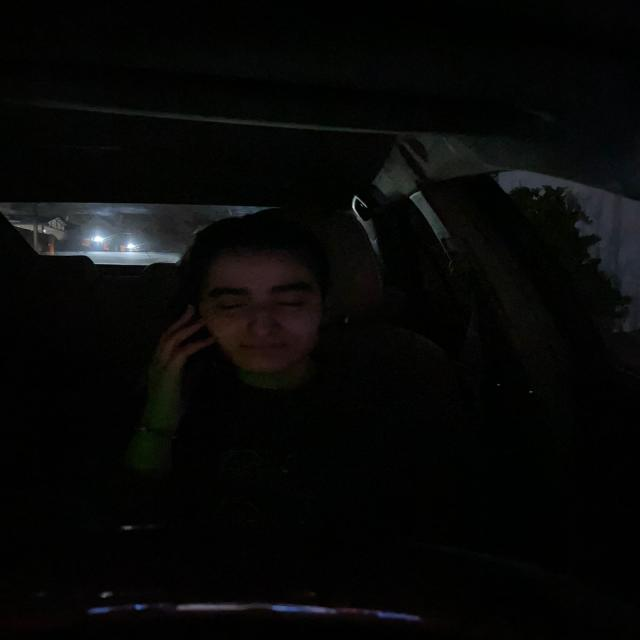mobile: (173, 314, 233, 392)
person: (194, 222, 331, 372)
